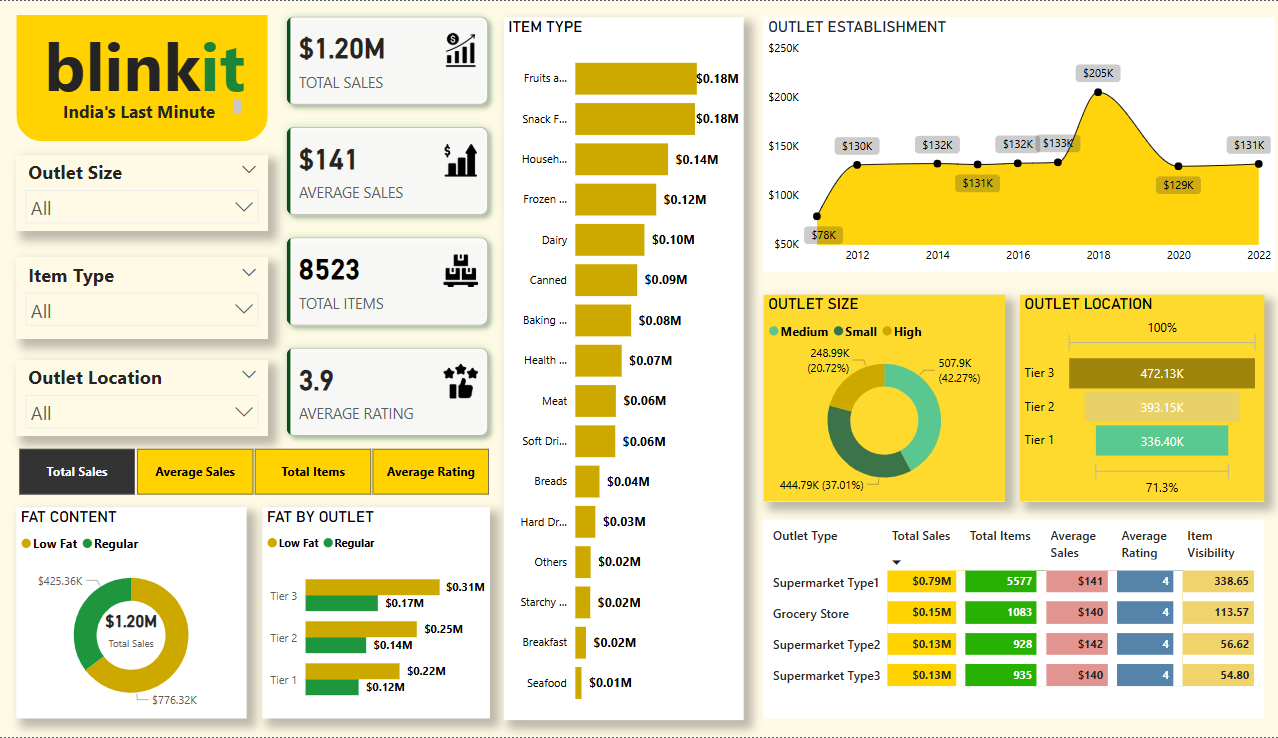

What the dashboard file says about the page in this screenshot:
{"tool":"powerbi","page":{"name":"Page 1","canvas":[1400,800],"ordinal":0},"visuals":[{"type":"shape","box":[23.4,15.6,273.4,137.5],"z":0},{"type":"textbox","box":[48.4,15.6,271.9,112.5],"z":1000},{"type":"textbox","box":[48.4,101.6,223.4,35.9],"z":2000},{"type":"slicer","fields":{"Values":["BlinkIT Grocery Data.Item Type"]},"box":[23.4,278.1,273.4,89.1],"z":3000},{"type":"slicer","fields":{"Values":["BlinkIT Grocery Data.Outlet Location Type"]},"box":[23.4,390.6,273.4,82.8],"z":4000},{"type":"slicer","fields":{"Values":["BlinkIT Grocery Data.Outlet Size"]},"box":[23.4,167.2,273.4,82.8],"z":5000},{"type":"cardVisual","fields":{"Data":["BlinkIT Grocery Data.Total Sales","BlinkIT Grocery Data.Average Sales","BlinkIT Grocery Data.Total Items","BlinkIT Grocery Data.Average Rating"]},"box":[300,0,253.1,490],"z":6000},{"type":"donutChart","title":"FAT CONTENT","fields":{"Y":["BlinkIT Grocery Data.Total Sales"],"Category":["BlinkIT Grocery Data.Item Fat Content"]},"box":[23.4,550,250,229.7],"z":7000},{"type":"slicer","fields":{"Values":["Metrics.Metrics"]},"box":[0,479.7,561,64.1],"z":8000},{"type":"card","fields":{"Values":["BlinkIT Grocery Data.Total Sales"]},"box":[106.2,654.7,84.4,53.1],"z":9000},{"type":"clusteredBarChart","title":"FAT BY OUTLET","fields":{"Y":["BlinkIT Grocery Data.Total Sales"],"Category":["BlinkIT Grocery Data.Outlet Location Type"],"Series":["BlinkIT Grocery Data.Item Fat Content"]},"box":[290.6,550,246.9,229.7],"z":10000},{"type":"barChart","title":"ITEM TYPE","fields":{"Y":["BlinkIT Grocery Data.Total Sales"],"Category":["BlinkIT Grocery Data.Item Type"]},"box":[553.1,17.2,260.9,764.1],"z":11000},{"type":"lineChart","title":"OUTLET ESTABLISHMENT","fields":{"Category":["BlinkIT Grocery Data.Outlet Establishment Year"],"Y":["BlinkIT Grocery Data.Total Sales"]},"box":[835.9,17.2,556.2,276.6],"z":12000},{"type":"donutChart","title":"OUTLET SIZE","fields":{"Category":["BlinkIT Grocery Data.Outlet Size"],"Y":["Sum(BlinkIT Grocery Data.Sales)"]},"box":[835.9,318.8,262.5,225],"z":13000},{"type":"funnel","title":"OUTLET LOCATION","fields":{"Y":["Sum(BlinkIT Grocery Data.Sales)"],"Category":["BlinkIT Grocery Data.Outlet Location Type"]},"box":[1114.1,318.8,265.6,225],"z":14000},{"type":"pivotTable","fields":{"Values":["BlinkIT Grocery Data.Total Sales","BlinkIT Grocery Data.Total Items","BlinkIT Grocery Data.Average Sales","BlinkIT Grocery Data.Average Rating","Sum(BlinkIT Grocery Data.Item Visibility)"],"Rows":["BlinkIT Grocery Data.Outlet Type"]},"box":[835.9,564.1,543.8,215.6],"z":15000}]}

Visuals, with their boxes in screenshot pixels (x1, y1, x2, y2), scaled from the page's 1400x800 canvas onto the 1278x738 screenshot:
shape: [21, 14, 271, 141]
textbox: [44, 14, 292, 118]
textbox: [44, 94, 248, 127]
slicer - BlinkIT Grocery Data.Item Type: [21, 257, 271, 339]
slicer - BlinkIT Grocery Data.Outlet Location Type: [21, 360, 271, 437]
slicer - BlinkIT Grocery Data.Outlet Size: [21, 154, 271, 231]
cardVisual - BlinkIT Grocery Data.Total Sales x BlinkIT Grocery Data.Average Sales: [274, 0, 505, 452]
"FAT CONTENT" donutChart: [21, 507, 250, 719]
slicer - Metrics.Metrics: [0, 443, 512, 502]
card - BlinkIT Grocery Data.Total Sales: [97, 604, 174, 653]
"FAT BY OUTLET" clusteredBarChart: [265, 507, 491, 719]
"ITEM TYPE" barChart: [505, 16, 743, 721]
"OUTLET ESTABLISHMENT" lineChart: [763, 16, 1271, 271]
"OUTLET SIZE" donutChart: [763, 294, 1003, 502]
"OUTLET LOCATION" funnel: [1017, 294, 1259, 502]
pivotTable - BlinkIT Grocery Data.Total Sales x BlinkIT Grocery Data.Total Items: [763, 520, 1259, 719]
